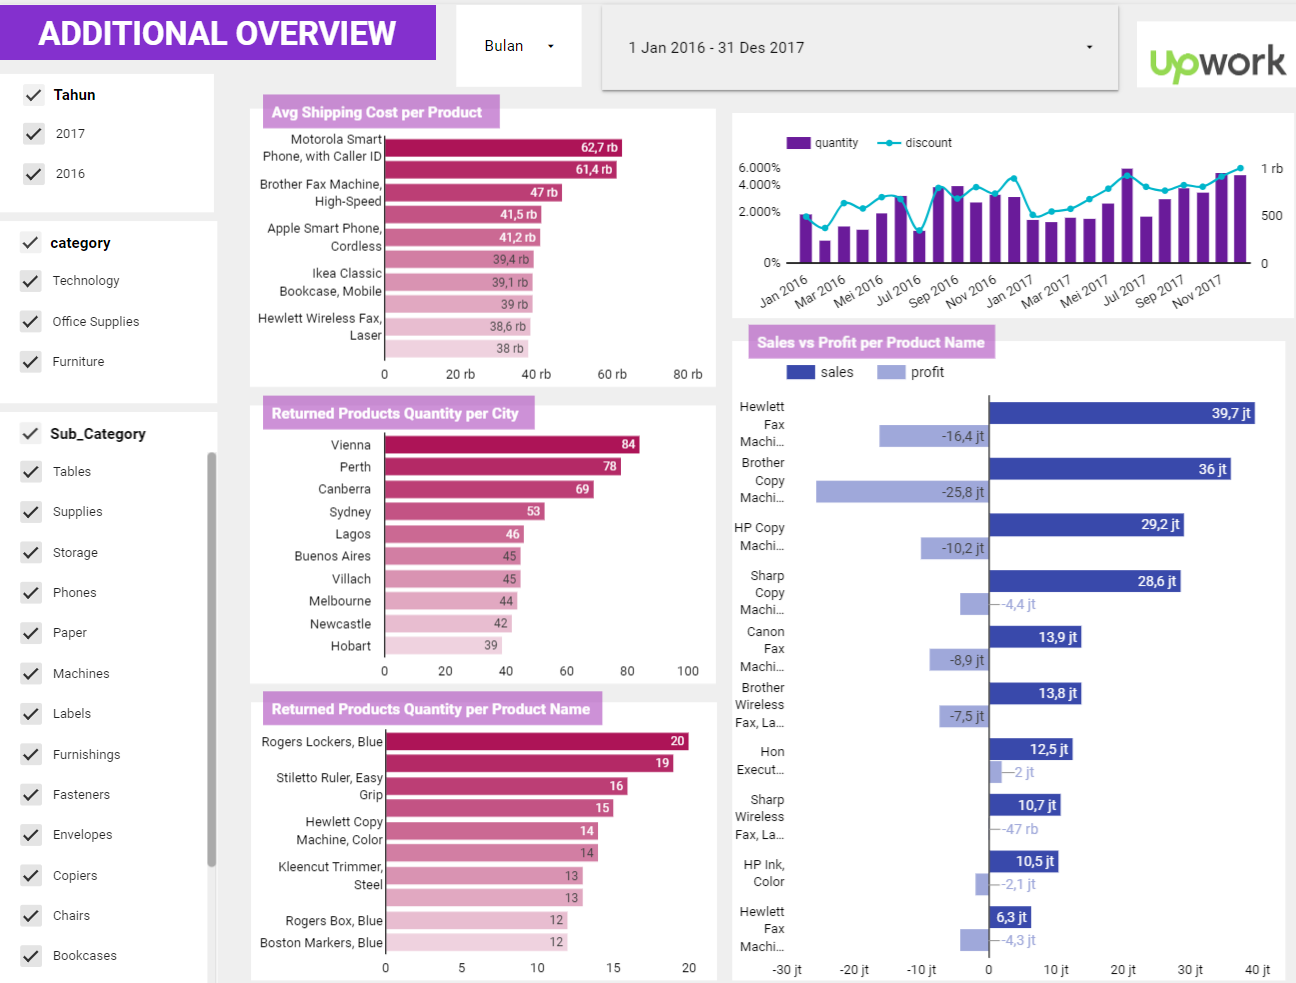

The page's visual inventory and layout, read from the dashboard file:
{"tool":"powerbi","page":{"name":"Additionals","canvas":[1280,720],"ordinal":2},"visuals":[{"type":"textbox","box":[19.3,9.6,214.7,68.8],"z":0},{"type":"lineStackedColumnComboChart","title":"Sales & Discount per Month","fields":{"Category":["FACT_CustTrx.Order Date.Variasi.Hierarki Tanggal.Bulan"],"Y2":["Sum(FACT_CustTrx.discount)"],"Y":["Sum(FACT_CustTrx.quantity)"]},"box":[728.1,9.6,521.6,236.7],"z":1000},{"type":"slicer","fields":{"Values":["FACT_CustTrx.Order Date.Variasi.Hierarki Tanggal.Tahun"]},"box":[19.3,88.1,214.7,79.8],"z":2000},{"type":"slicer","title":"Month","fields":{"Values":["FACT_CustTrx.Order Date.Variasi.Hierarki Tanggal.Bulan"]},"box":[19.3,183.1,214.7,63.3],"z":3000},{"type":"clusteredBarChart","title":"Average Shipping Cost per Product","fields":{"Category":["FACT_CustTrx.Product Name"],"Y":["Avg(FACT_CustTrx.Shipping Cost)"]},"box":[246.4,9.6,470.7,218.8],"z":4000},{"type":"clusteredBarChart","title":"Returned Products Quantity per Product Name","fields":{"Y":["Sum(FACT_Return.quantity)"],"Category":["FACT_Return.Product Name"]},"box":[246.4,481.7,470.7,220.2],"z":5000},{"type":"clusteredBarChart","title":"Returned Products Quantity per City","fields":{"Y":["Sum(FACT_Return.quantity)"],"Category":["FACT_Return.city"]},"box":[246.4,246.4,470.7,217.5],"z":6000},{"type":"clusteredBarChart","title":"Sales & Profit per Product Name","fields":{"Category":["FACT_CustTrx.Product Name"],"Y":["Sum(FACT_CustTrx.sales)","Sum(FACT_CustTrx.profit)"]},"box":[728.1,261.5,521.6,440.4],"z":7000},{"type":"slicer","fields":{"Values":["FACT_CustTrx.category"]},"box":[19.3,260.1,214.7,89.5],"z":8000},{"type":"textbox","box":[19.3,523,214.7,27.5],"z":9000},{"type":"slicer","title":"Category","fields":{"Values":["FACT_Return.category","FACT_Return.Sub-Category"]},"box":[19.3,561.5,214.7,139],"z":10000},{"type":"slicer","fields":{"Values":["FACT_CustTrx.Sub-Category"]},"box":[19.3,360.6,214.7,151.4],"z":11000}]}

Visuals, with their boxes on the page's 1280x720 design canvas (x1, y1, x2, y2). These are canvas units, not pixel positions in the 1296x983 screenshot, which may show the page scaled, cropped or inside an application window:
textbox: (19,10,234,78)
"Sales & Discount per Month" lineStackedColumnComboChart: (728,10,1250,246)
slicer - FACT_CustTrx.Order Date.Variasi.Hierarki Tanggal.Tahun: (19,88,234,168)
"Month" slicer: (19,183,234,246)
"Average Shipping Cost per Product" clusteredBarChart: (246,10,717,228)
"Returned Products Quantity per Product Name" clusteredBarChart: (246,482,717,702)
"Returned Products Quantity per City" clusteredBarChart: (246,246,717,464)
"Sales & Profit per Product Name" clusteredBarChart: (728,262,1250,702)
slicer - FACT_CustTrx.category: (19,260,234,350)
textbox: (19,523,234,550)
"Category" slicer: (19,562,234,700)
slicer - FACT_CustTrx.Sub-Category: (19,361,234,512)
